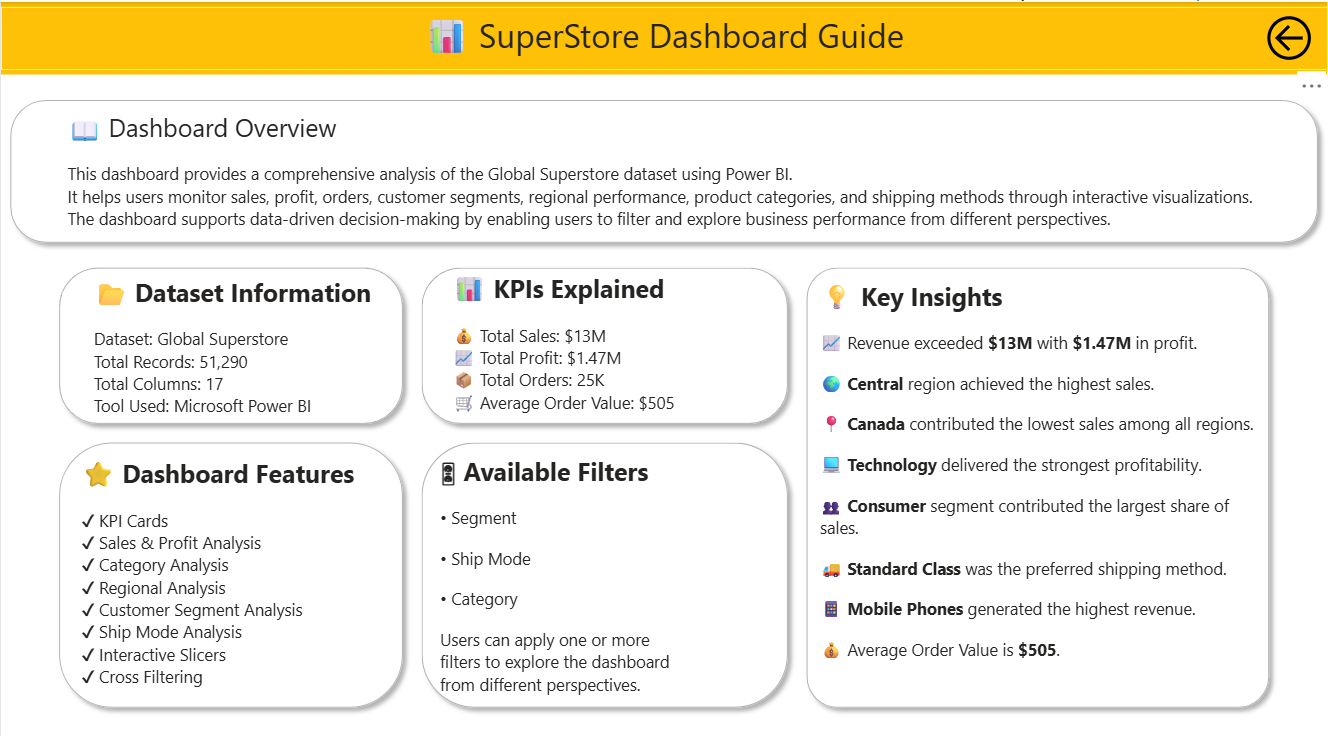

What the dashboard file says about the page in this screenshot:
{"tool":"powerbi","page":{"name":"Information","canvas":[1280,720],"ordinal":1},"visuals":[{"type":"shape","box":[0,0,1280,70],"z":0},{"type":"textbox","box":[0,4.8,1280,60.3],"z":1000},{"type":"actionButton","box":[1216.1,6,54.3,56.7],"z":2000},{"type":"shape","box":[0,85.7,1280,155.6],"z":3000},{"type":"textbox","box":[59.1,100.1,1163,127.9],"z":4000},{"type":"shape","box":[47.1,247.3,349.9,168.9],"z":5000},{"type":"shape","box":[396.9,247.3,371.6,168.9],"z":6000},{"type":"textbox","box":[84.5,259.4,298,153.2],"z":7000},{"type":"textbox","box":[430.7,255.8,325.7,152],"z":8000},{"type":"shape","box":[47.1,416.2,349.9,273.9],"z":9000},{"type":"shape","box":[396.9,416.2,371.6,273.9],"z":10000},{"type":"textbox","box":[72.4,434.3,298,238.9],"z":11000},{"type":"textbox","box":[418.6,431.9,349.9,242.5],"z":12000},{"type":"shape","box":[768.5,247.3,464.5,442.8],"z":13000},{"type":"textbox","box":[785.4,263,430.7,410.2],"z":14000}]}

Visuals, with their boxes in screenshot pixels (x1, y1, x2, y2), scaled from the page's 1280x720 canvas onto the 1328x736 screenshot:
shape: 0, 0, 1327, 72
textbox: 0, 5, 1327, 67
actionButton: 1262, 6, 1318, 64
shape: 0, 88, 1327, 247
textbox: 61, 102, 1268, 233
shape: 49, 253, 412, 425
shape: 412, 253, 797, 425
textbox: 88, 265, 397, 422
textbox: 447, 261, 785, 417
shape: 49, 425, 412, 705
shape: 412, 425, 797, 705
textbox: 75, 444, 384, 688
textbox: 434, 441, 797, 689
shape: 797, 253, 1279, 705
textbox: 815, 269, 1262, 688
